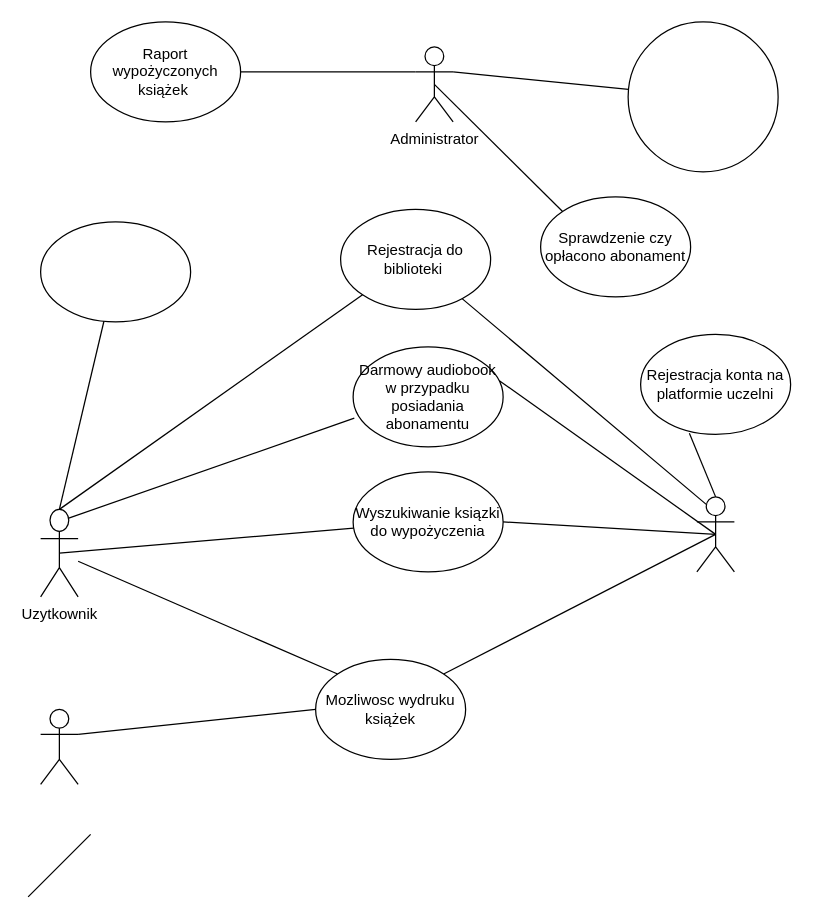
The diagram is 813 pixels wide and 920 high, and some of its shapes have lost their labels. Each missing label, with the box of its shape:
Blokada dostepu do wypożyczonej książki w przypadku braku opłaty abonamentowej: (627, 21, 778, 172)
Opłacenie abonamentu w biliotece: (39, 221, 191, 322)
Student: (696, 496, 734, 572)
Wydawca: (39, 708, 78, 784)
